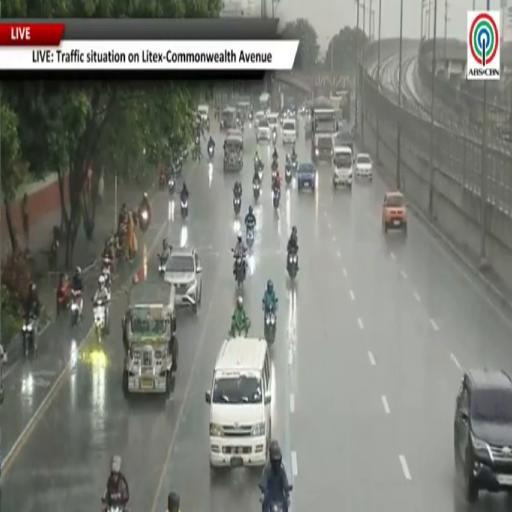car: (205, 337, 275, 472), (454, 370, 511, 503), (164, 247, 202, 313), (382, 191, 407, 233), (333, 146, 353, 189), (297, 163, 316, 190), (355, 153, 372, 180), (282, 119, 296, 143), (256, 119, 270, 141), (254, 111, 266, 130), (198, 105, 209, 122), (267, 114, 278, 131)
jeepney: (123, 280, 178, 395), (224, 134, 243, 171), (221, 107, 237, 131), (227, 130, 243, 149), (237, 102, 251, 121)
motorcycle: (22, 315, 37, 358), (93, 301, 107, 343), (264, 300, 277, 345), (57, 278, 70, 315), (71, 291, 82, 325), (48, 238, 59, 271), (235, 256, 245, 287), (101, 258, 112, 286), (287, 252, 298, 279), (268, 496, 284, 511), (158, 254, 167, 278), (140, 210, 149, 233), (254, 159, 263, 180), (193, 137, 200, 161), (273, 187, 280, 210), (246, 228, 254, 248), (181, 200, 188, 219), (234, 197, 241, 215), (168, 178, 175, 195), (253, 183, 260, 200), (104, 506, 127, 511), (285, 165, 291, 184), (271, 159, 278, 174), (159, 173, 165, 190), (208, 146, 214, 159), (292, 159, 297, 173), (272, 169, 277, 182), (272, 131, 276, 146), (206, 118, 210, 132), (249, 112, 253, 121)
truck: (311, 96, 338, 163)
